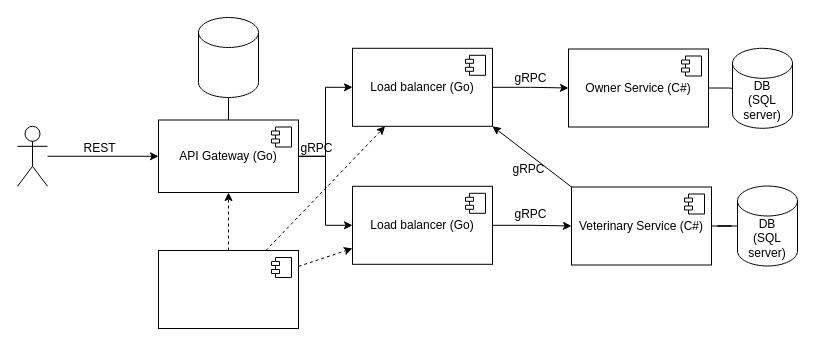
Image size: 815x346. Some labels were removed from this diagram. The shapes that lost their labels are listed below. From the top down, each one's box as (x1, y1, x2, y2) in pixels, then its label:
(198, 16, 258, 98): Cache (Redis)
(16, 125, 48, 186): Client
(158, 250, 298, 328): Service Discovery (Go)
